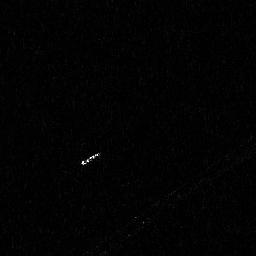ship: (81, 151, 99, 165)
